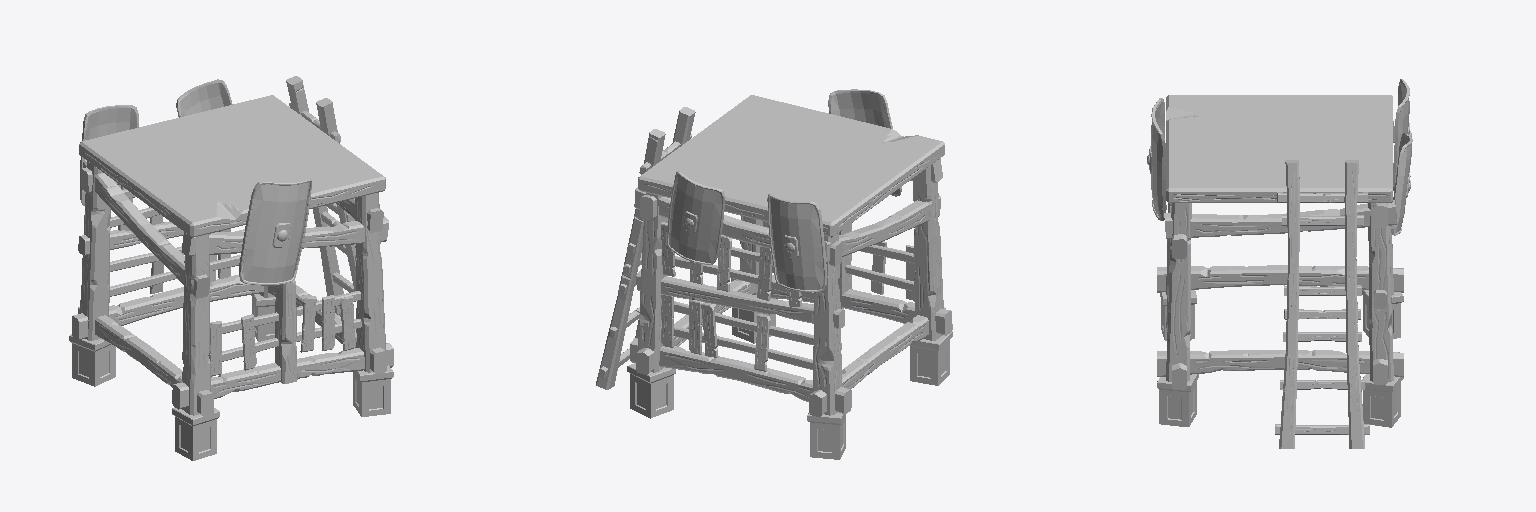
Rendered from TowerMidPhase.obj.
The picture shows the model from 3 angles: view 1: azimuth 30°, elevation 25°; view 2: azimuth 150°, elevation 25°; view 3: azimuth 270°, elevation 25°; orthographic projection.
Visible parts, largest first — view 1: polySurface426, polySurface688; view 2: polySurface426, polySurface688; view 3: polySurface426, polySurface688.
Boxes of the visible parts, box(x1,y1,x2,y2) form: polySurface426: box(72, 76, 393, 416); polySurface688: box(69, 79, 393, 460); polySurface426: box(596, 95, 952, 416); polySurface688: box(627, 89, 952, 459); polySurface426: box(1157, 95, 1403, 448); polySurface688: box(1147, 79, 1412, 427).
Size of the model in its own units: 452 by 437 by 398.